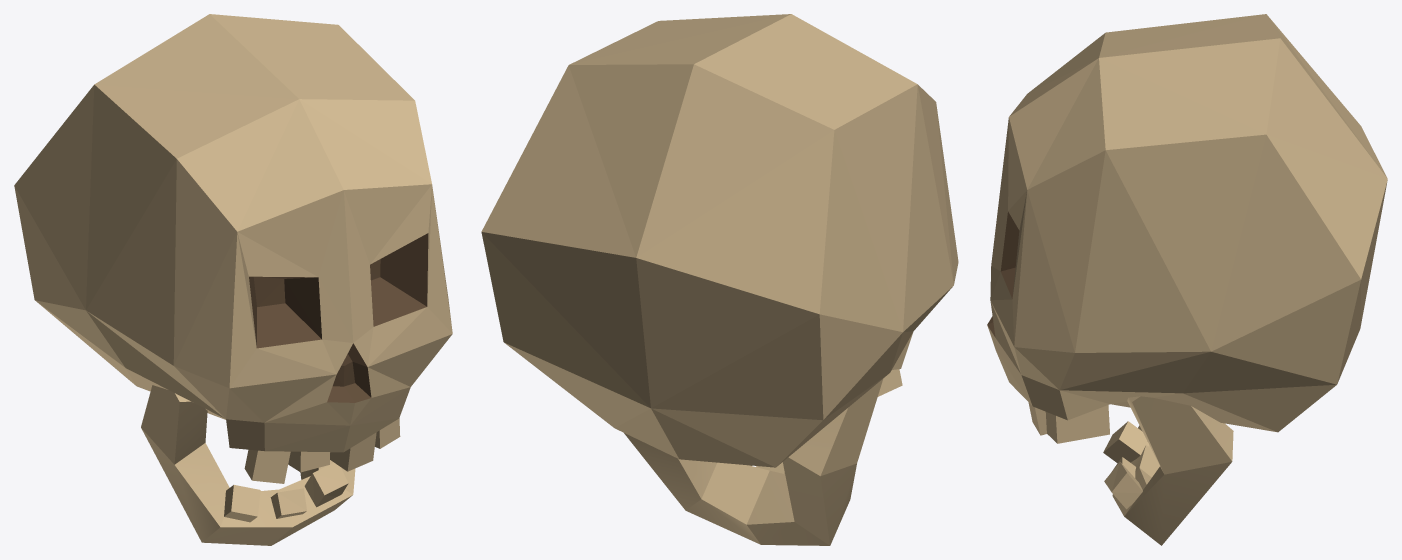
File: Skull.fbx
The picture shows the model from 3 angles, left to right: view 1: azimuth 30°, elevation 25°; view 2: azimuth 150°, elevation 25°; view 3: azimuth 270°, elevation 25°; orthographic projection. The views are drawn at different scales.
Parts seen in each view (by area): view 1: Character_Skeleton_Slave_01; view 2: Character_Skeleton_Slave_01; view 3: Character_Skeleton_Slave_01.
Boxes of the visible parts, x1=… form: Character_Skeleton_Slave_01: x1=14, y1=14, x2=452, y2=545; Character_Skeleton_Slave_01: x1=481, y1=14, x2=958, y2=545; Character_Skeleton_Slave_01: x1=987, y1=14, x2=1387, y2=545.
Bounding box in the file's own units: 23.31 × 34.34 × 25.33.
